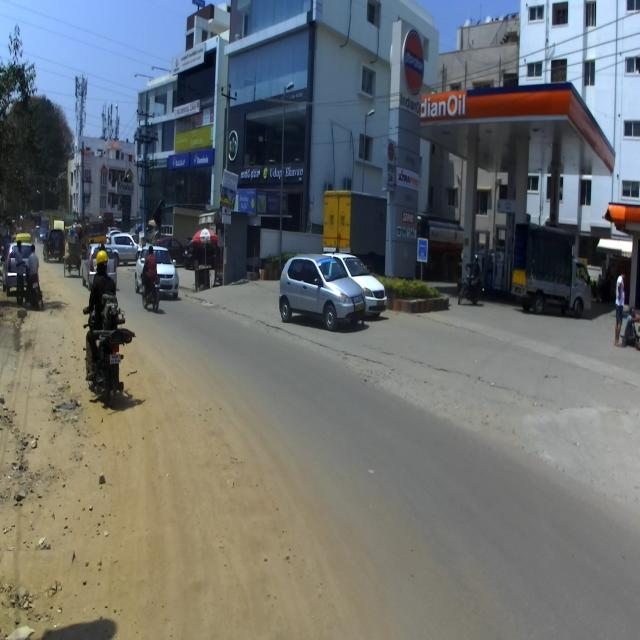car ahead at: (276, 246, 365, 334)
motorcycle ahead at: (80, 314, 132, 403)
